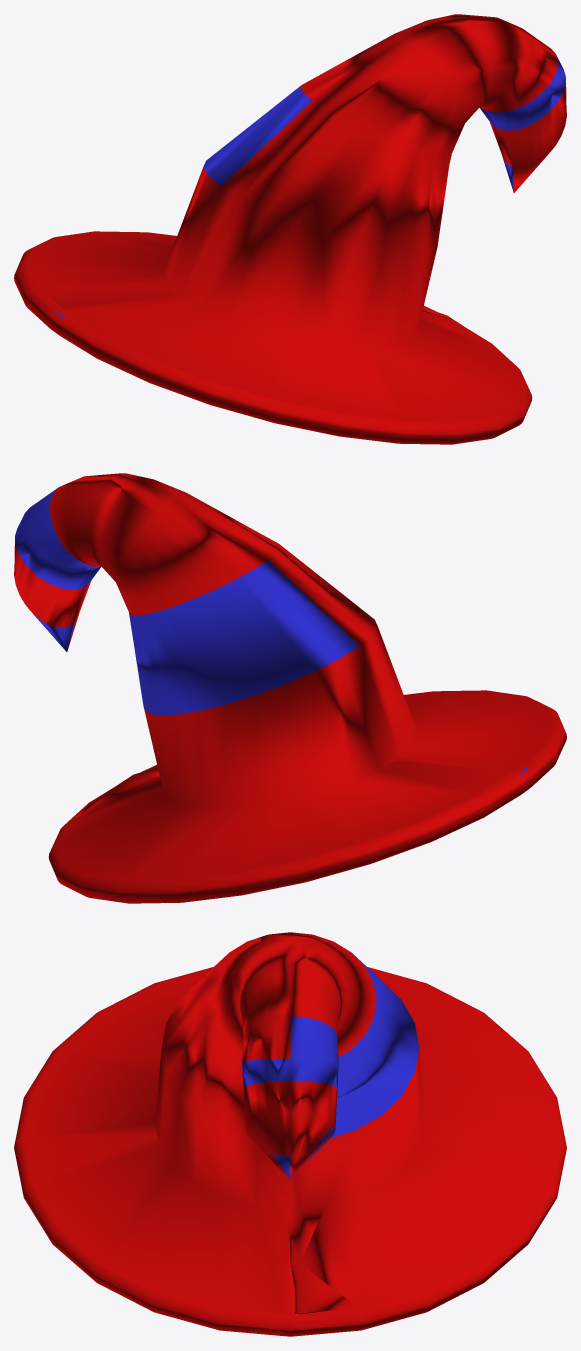
File: hat.fbx
3 views of the same model, one above another, from view 1: azimuth 30°, elevation 25°; view 2: azimuth 150°, elevation 25°; view 3: azimuth 270°, elevation 25° (orthographic). The views are drawn at different scales.
Visible parts, largest first — view 1: Model; view 2: Model; view 3: Model.
Part boxes in pixels (bbox=[...]): Model: bbox=[14, 14, 566, 444]; Model: bbox=[14, 473, 566, 903]; Model: bbox=[14, 932, 566, 1336].
Bounding box in the file's own units: 36.17 × 24 × 33.06.
